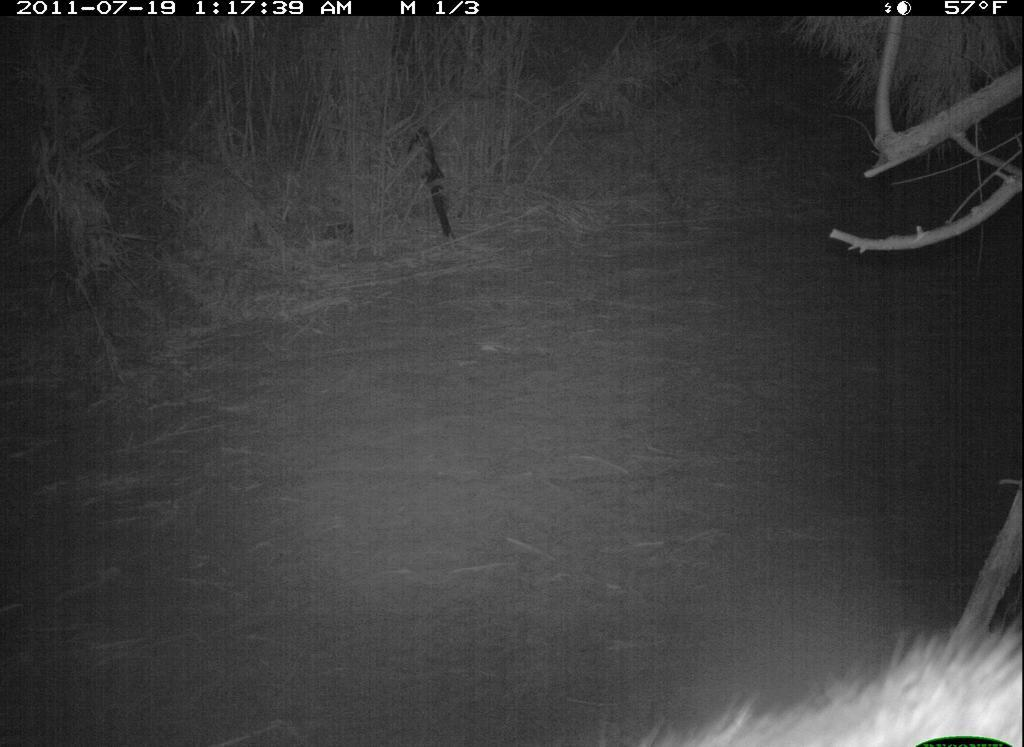raccoon: (563, 619, 1024, 747)
